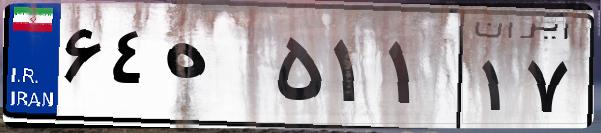1: (385, 28, 445, 110), (330, 28, 385, 110), (475, 38, 525, 113)
4: (110, 28, 158, 98)
5: (270, 28, 330, 110)
6: (57, 26, 110, 100)
7: (525, 38, 570, 115)
ه: (158, 20, 270, 120)
